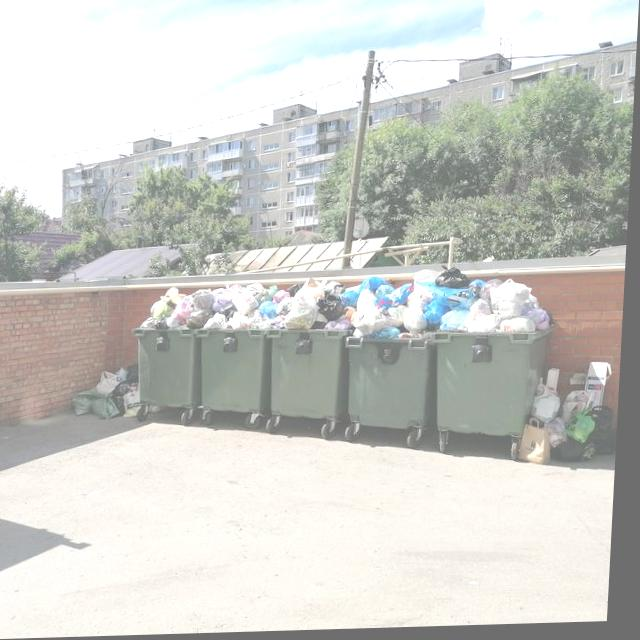Trash_Can_Full: (436, 268, 560, 443), (346, 276, 440, 434), (269, 280, 357, 424), (132, 286, 219, 411), (196, 285, 277, 415)
